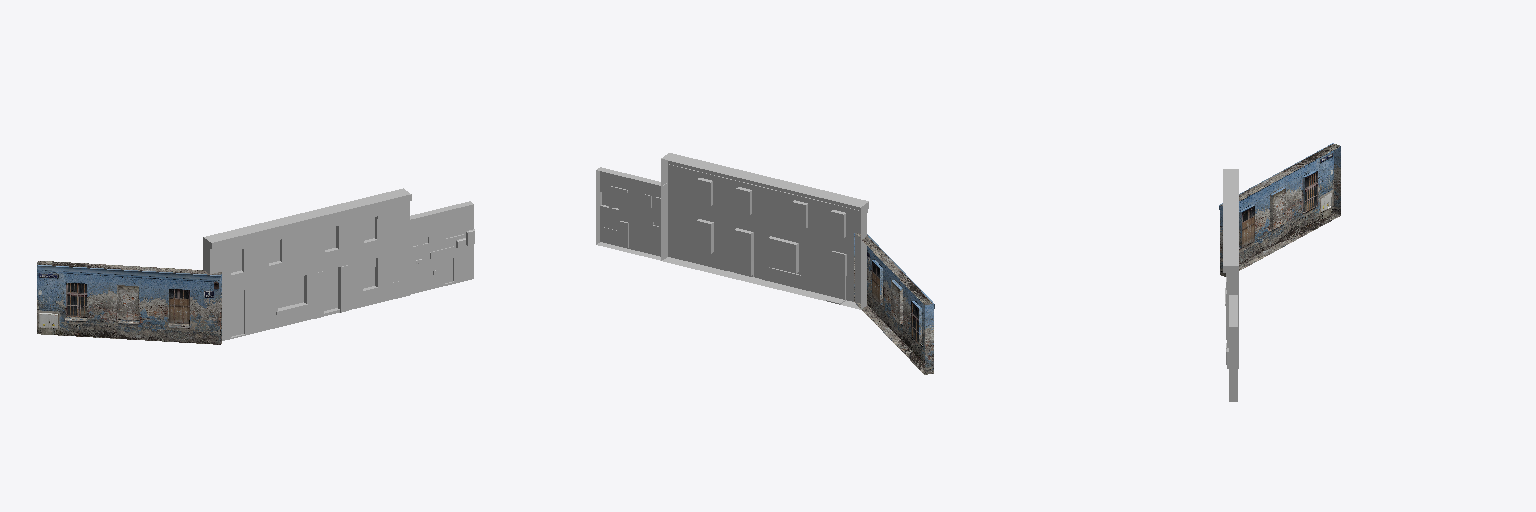
3 renders of one model, left to right at view 1: azimuth 30°, elevation 25°; view 2: azimuth 150°, elevation 25°; view 3: azimuth 270°, elevation 25°, orthographic.
Parts seen in each view (by area): view 1: Old_Building_#1.001, Old_Building_#4.001, Old_Building_#5.001; view 2: Old_Building_#1.001, Old_Building_#4.001, Old_Building_#5.001; view 3: Old_Building_#4.001, Old_Building_#1.001, Old_Building_#5.001.
Part boxes in pixels (x1,y1,x2,y2): Old_Building_#1.001: (203, 188, 411, 340); Old_Building_#4.001: (37, 261, 221, 344); Old_Building_#5.001: (410, 201, 474, 294); Old_Building_#1.001: (661, 153, 868, 309); Old_Building_#4.001: (854, 233, 934, 374); Old_Building_#5.001: (596, 167, 666, 260); Old_Building_#4.001: (1219, 143, 1340, 276); Old_Building_#1.001: (1223, 169, 1238, 368); Old_Building_#5.001: (1226, 295, 1237, 401).
Bounding box in the file's own units: 11.6 × 2.96 × 3.2.
3 materials, 1 textured.